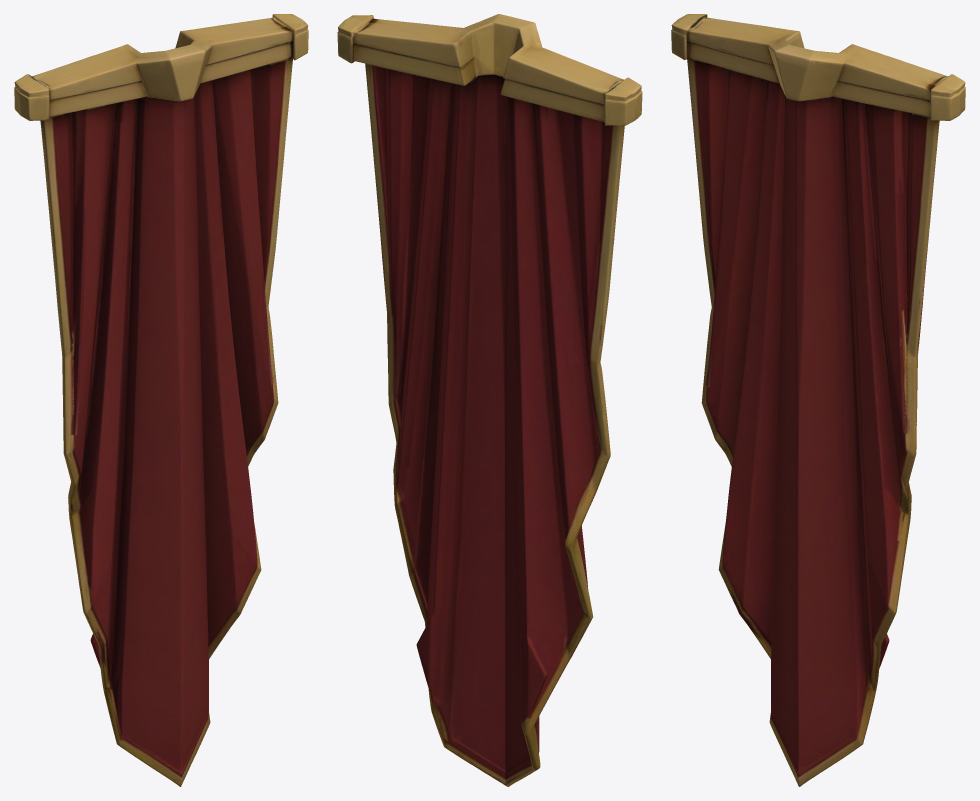
Rendered from king_drapes.glb.
3 renders of one model, left to right at view 1: azimuth 30°, elevation 25°; view 2: azimuth 150°, elevation 25°; view 3: azimuth 330°, elevation 25°, orthographic. The views are drawn at different scales.
Parts seen in each view (by area): view 1: node_0; view 2: node_0; view 3: node_0.
Boxes of the visible parts, <box> form: node_0: <box>14,14,308,786</box>; node_0: <box>337,14,642,786</box>; node_0: <box>671,14,965,786</box>.
Size of the model in its own units: 0.467 by 1.16 by 0.1089.
1 material, 1 textured.
